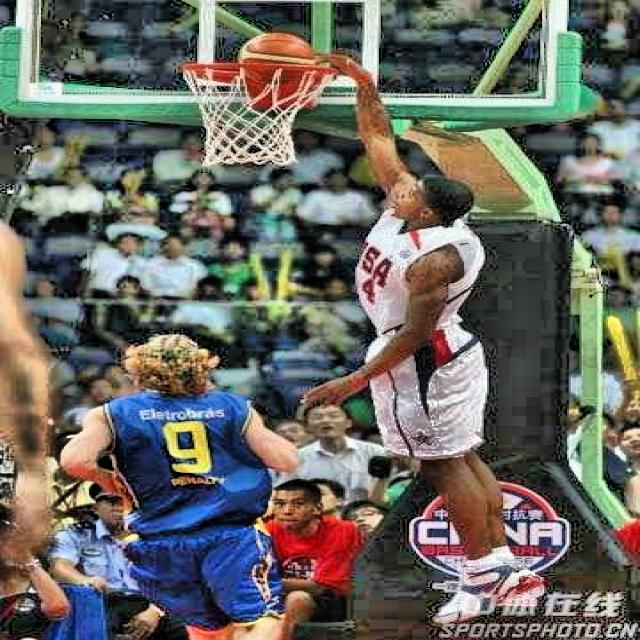rim: (174, 63, 338, 164)
